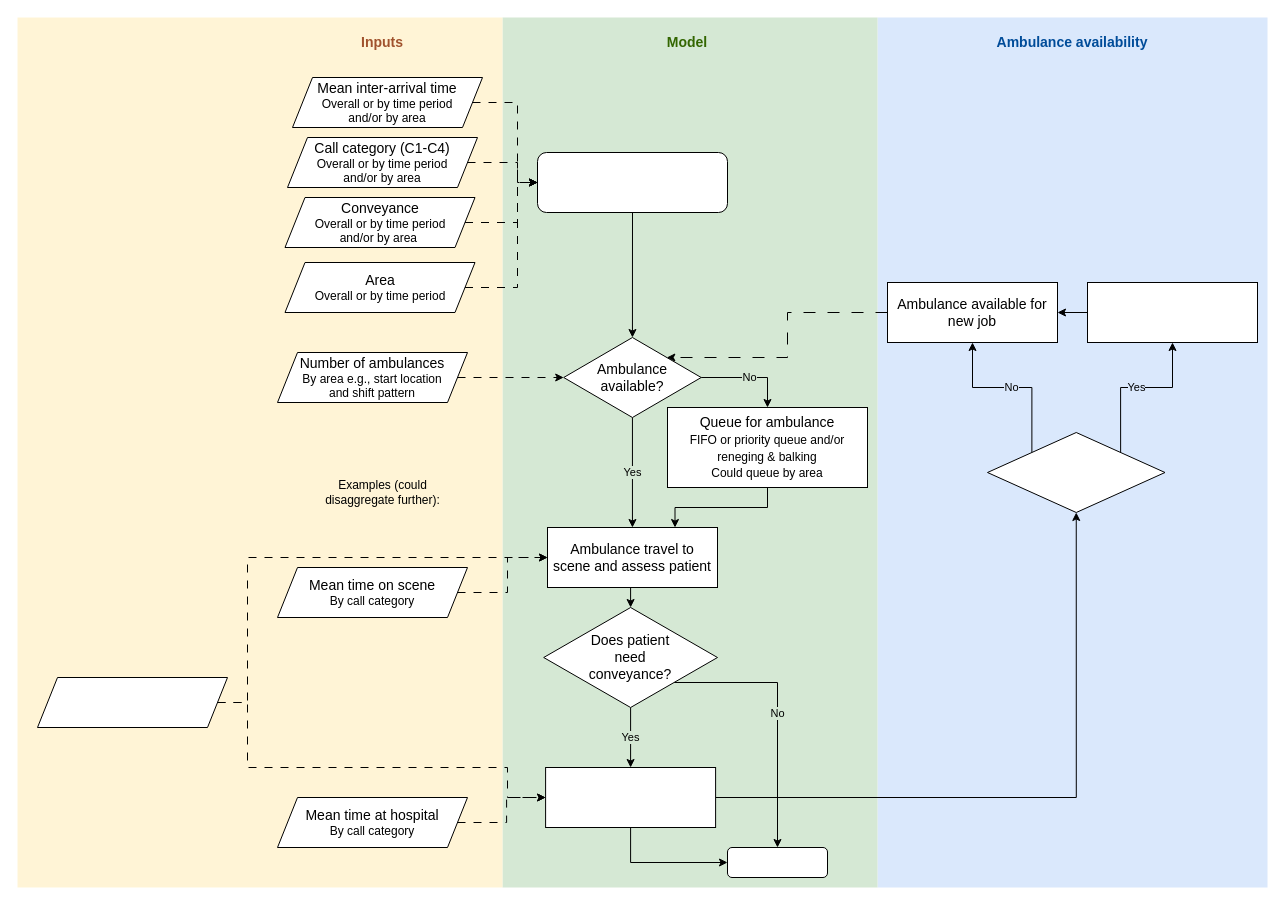
The diagram is 1284 pixels wide and 904 high, and some of its shapes have lost their labels. Here are the shapes that lost their labels. From the top down, the box of each, then its label:
(536, 152, 728, 212): Incoming call Attributes: Category (C1-C4), conveyance and area
(1086, 282, 1258, 342): Ambulance unavailable for X hours
(986, 432, 1165, 512): Is ambulance shift over?
(36, 676, 228, 728): Information used to estimate travel times
(545, 766, 716, 828): Ambulance travel to hospital and handover patient
(726, 846, 828, 878): Patient end
